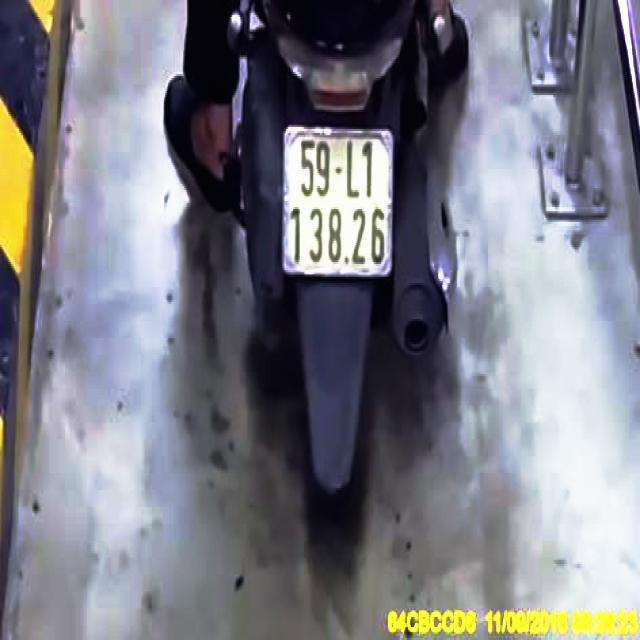license_plate: (283, 127, 395, 276)
